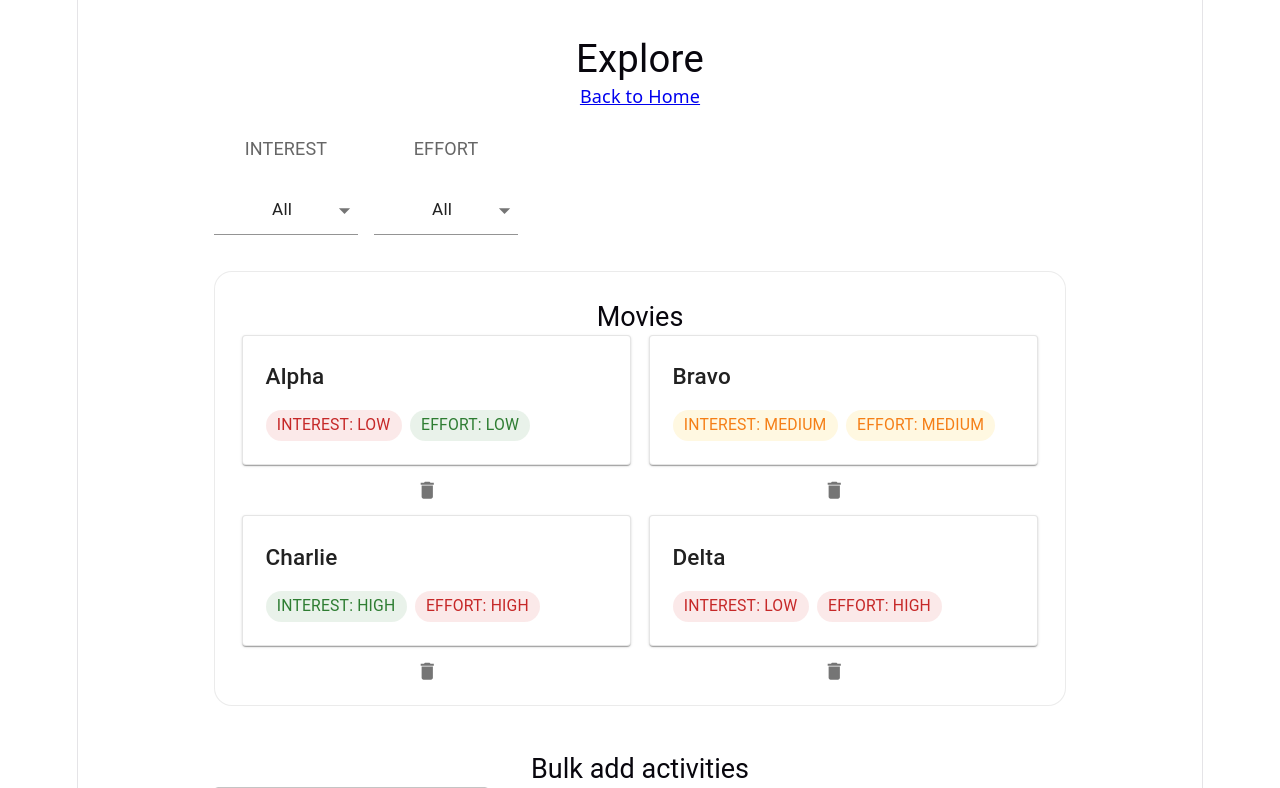
Scenario: ExplorePage › keeps the activity and shows an error when delete fails
Expected: the heading "Alpha" is shown, [266,363,324,389]
What coordinates should you click on to do the following:
click the button named "Delete Bravo"
I would click on:
 (835, 490)
Its box is [818,474,851,506].
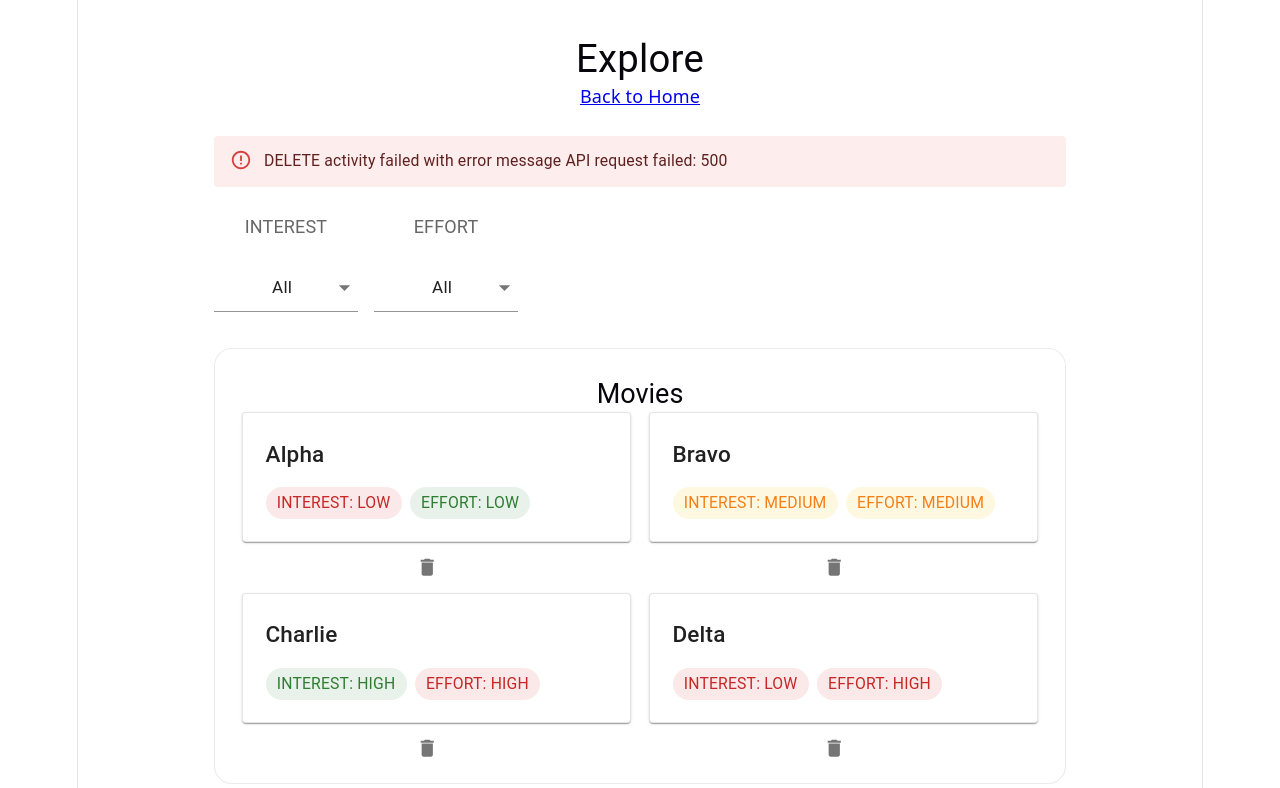
Expected: the heading "Bravo" is shown, [672,441,731,467]
Now the text "DELETE activity failed with error message API request failed: 500" is shown, box [264,151,728,170]
